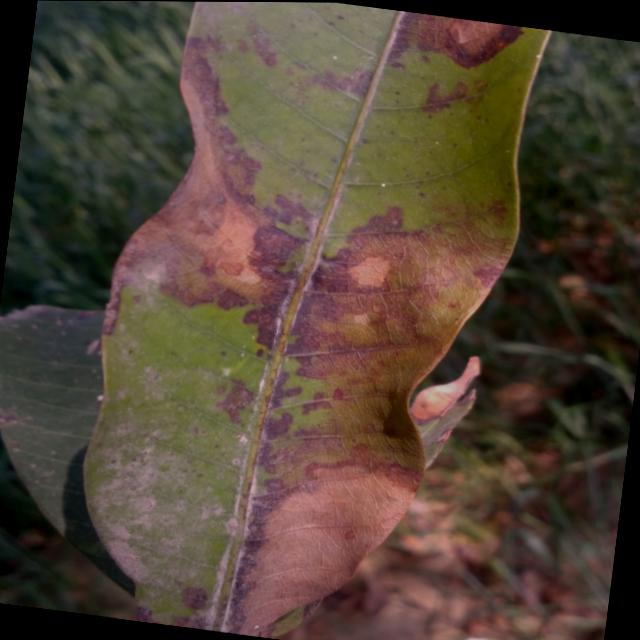Bacterial Cancer: (280, 206, 451, 617), (119, 142, 277, 321)
